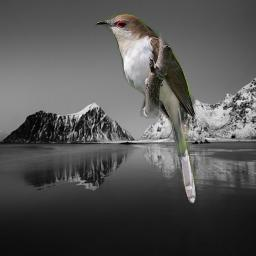Cuckoo: (93, 12, 197, 205)
